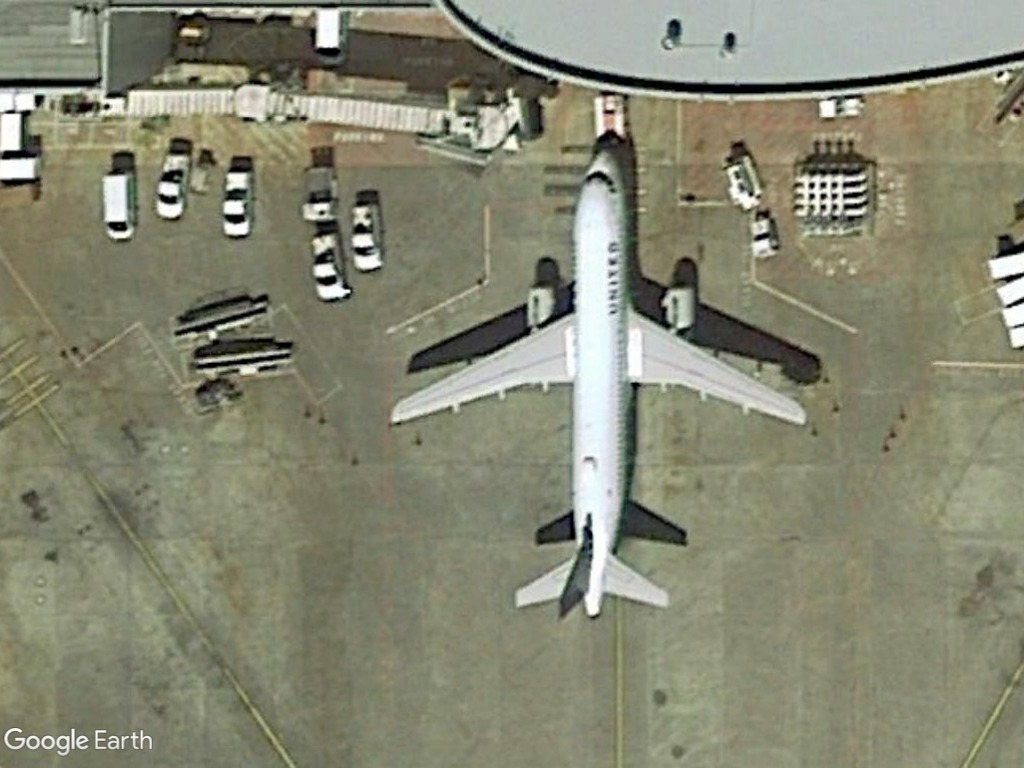airliner: (384, 135, 805, 630)
other: (151, 148, 194, 226), (216, 165, 256, 242)
van: (97, 166, 141, 244)
